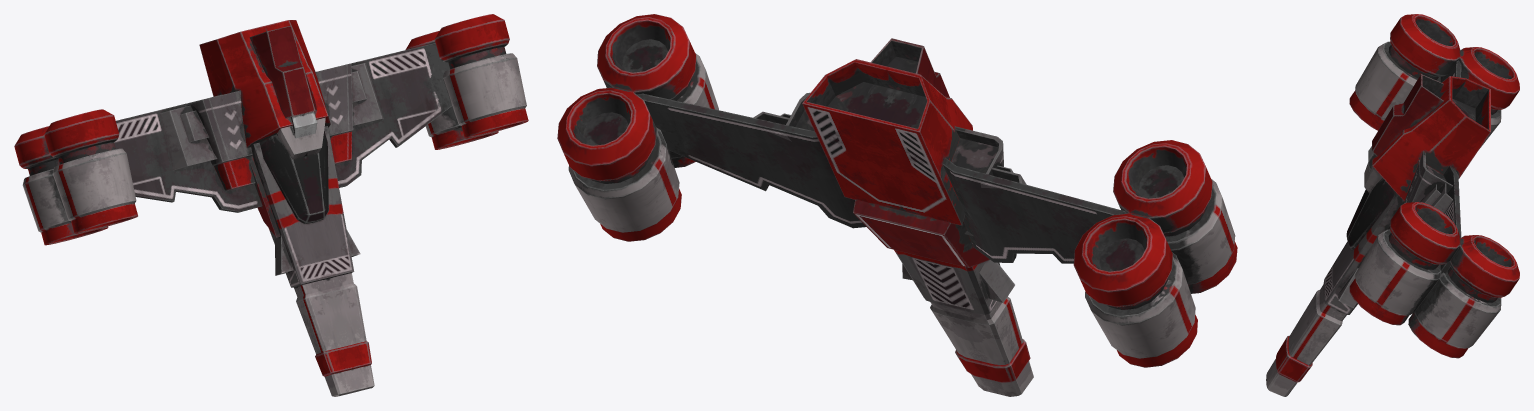
Rendered from Spitfire.fbx.
3 views of the same model, side by side, from view 1: azimuth 30°, elevation 25°; view 2: azimuth 150°, elevation 25°; view 3: azimuth 270°, elevation 25° (orthographic). The views are drawn at different scales.
Visible parts, largest first — view 1: Spitfire; view 2: Spitfire; view 3: Spitfire.
Boxes of the visible parts, <box> form: Spitfire: <box>14,14,528,396</box>; Spitfire: <box>557,14,1237,396</box>; Spitfire: <box>1266,14,1519,396</box>.
Size of the model in its own units: 8310 by 4058 by 5489.
